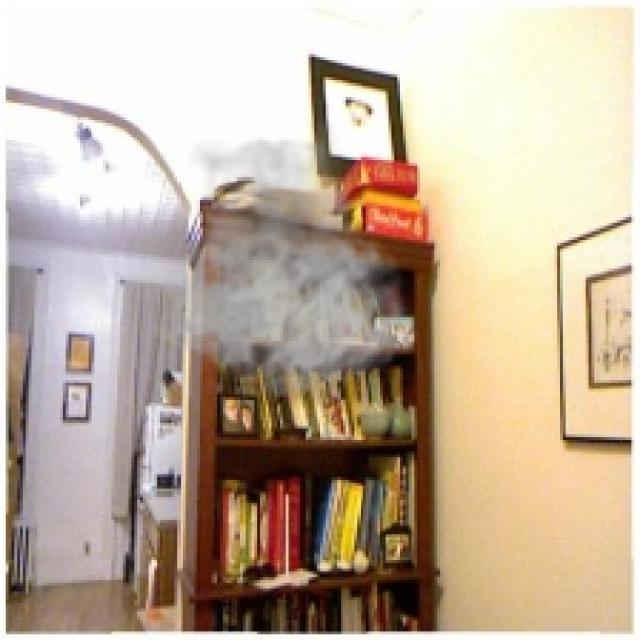Smoke: (143, 117, 420, 400)
